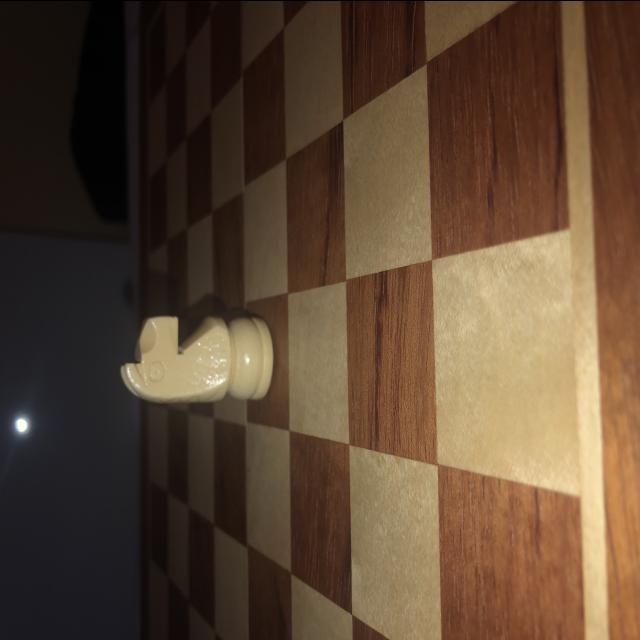white_knight: (117, 308, 277, 408)
